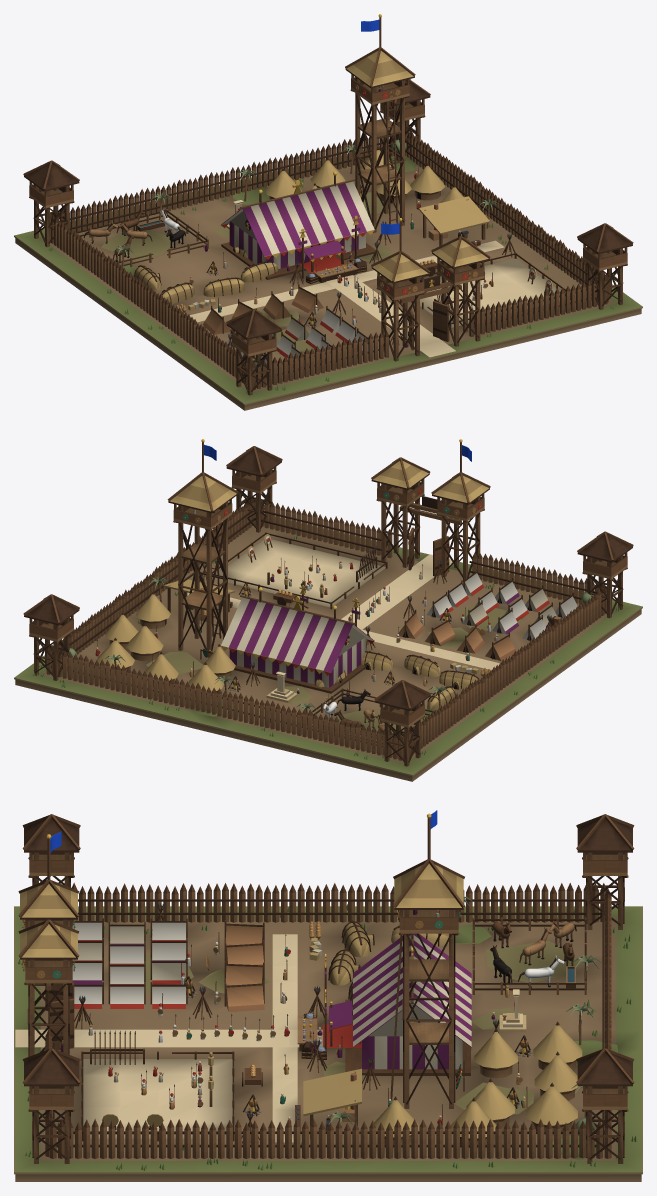
File: lm_paraliasker.glb
3 views of the same model, one above another, from view 1: azimuth 30°, elevation 25°; view 2: azimuth 150°, elevation 25°; view 3: azimuth 270°, elevation 25° (orthographic). The views are drawn at different scales.
Parts seen in each view (by area): view 1: lm_paraliasker; view 2: lm_paraliasker; view 3: lm_paraliasker.
Part boxes in pixels (left/top/right/bottom): lm_paraliasker: left=14, top=14, right=642, bottom=410; lm_paraliasker: left=14, top=439, right=642, bottom=781; lm_paraliasker: left=14, top=810, right=642, bottom=1181.
Bounding box in the file's own units: 2.25 × 1.16 × 2.25.
Materials: 1 (1 with a texture image).
